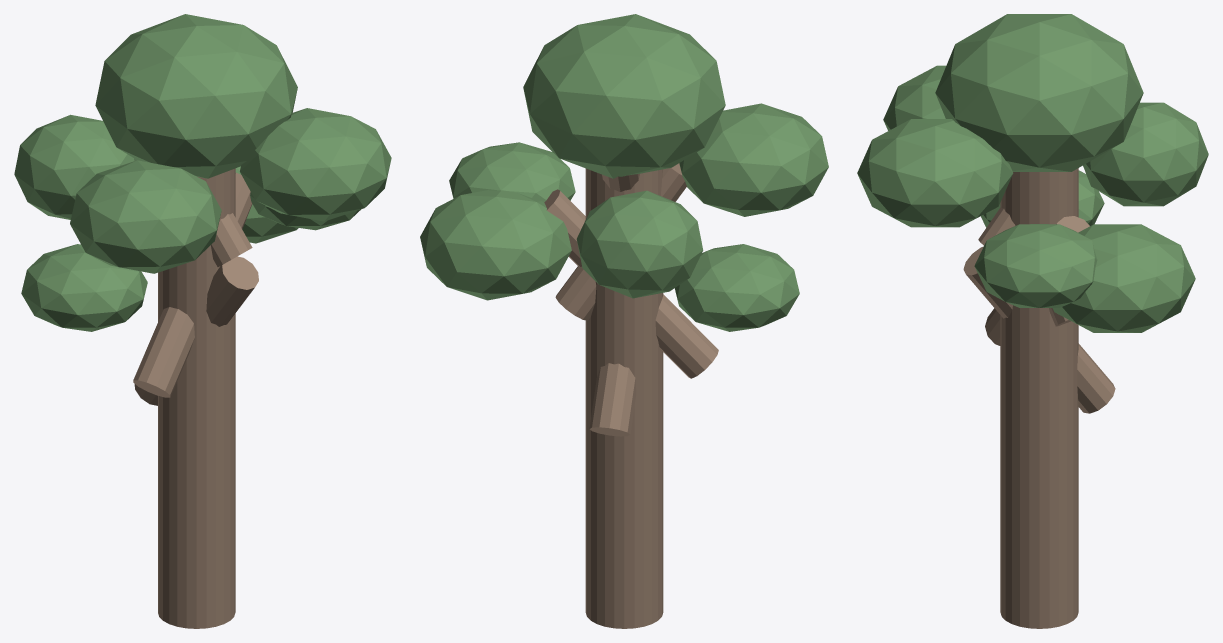
The model's file is oak_mature.glb.
The picture shows the model from 3 angles, left to right: view 1: azimuth 30°, elevation 25°; view 2: azimuth 150°, elevation 25°; view 3: azimuth 270°, elevation 25°; orthographic projection.
Visible parts, largest first — view 1: Oak_Mature_Trunk, Oak_Mature_LeafCluster_5, Oak_Mature_LeafCluster_4, Oak_Mature_LeafCluster_3, Oak_Mature_LeafCluster_7, Oak_Mature_LeafCluster_2, Oak_Mature_Branch_2, Oak_Mature_Branch_1, Oak_Mature_Branch_4, Oak_Mature_LeafCluster_6, Oak_Mature_LeafCluster_1; view 2: Oak_Mature_LeafCluster_5, Oak_Mature_Trunk, Oak_Mature_LeafCluster_1, Oak_Mature_LeafCluster_4, Oak_Mature_LeafCluster_2, Oak_Mature_LeafCluster_7, Oak_Mature_LeafCluster_6, Oak_Mature_Branch_2, Oak_Mature_Branch_1, Oak_Mature_Branch_3; view 3: Oak_Mature_Trunk, Oak_Mature_LeafCluster_5, Oak_Mature_LeafCluster_3, Oak_Mature_LeafCluster_1, Oak_Mature_LeafCluster_2, Oak_Mature_LeafCluster_6, Oak_Mature_Branch_1, Oak_Mature_LeafCluster_4, Oak_Mature_LeafCluster_7, Oak_Mature_Branch_2, Oak_Mature_Branch_4.
Boxes of the visible parts, x1,y1,x2,y2 form: Oak_Mature_Trunk: (158, 168, 235, 628); Oak_Mature_LeafCluster_5: (95, 14, 297, 178); Oak_Mature_LeafCluster_4: (70, 160, 221, 273); Oak_Mature_LeafCluster_3: (240, 108, 391, 221); Oak_Mature_LeafCluster_7: (21, 244, 147, 331); Oak_Mature_LeafCluster_2: (14, 114, 136, 219); Oak_Mature_Branch_2: (133, 172, 252, 397); Oak_Mature_Branch_1: (134, 256, 258, 405); Oak_Mature_Branch_4: (211, 213, 252, 267); Oak_Mature_LeafCluster_6: (250, 192, 360, 230); Oak_Mature_LeafCluster_1: (235, 166, 298, 243); Oak_Mature_LeafCluster_5: (523, 14, 725, 178); Oak_Mature_Trunk: (585, 168, 663, 628); Oak_Mature_LeafCluster_1: (420, 190, 571, 300); Oak_Mature_LeafCluster_4: (679, 103, 828, 216); Oak_Mature_LeafCluster_2: (576, 190, 703, 298); Oak_Mature_LeafCluster_7: (674, 244, 799, 331); Oak_Mature_LeafCluster_6: (449, 142, 575, 202); Oak_Mature_Branch_2: (544, 189, 718, 378); Oak_Mature_Branch_1: (589, 363, 636, 436); Oak_Mature_Branch_3: (555, 163, 686, 320); Oak_Mature_Trunk: (1000, 168, 1078, 628); Oak_Mature_LeafCluster_5: (935, 14, 1143, 171); Oak_Mature_LeafCluster_3: (857, 119, 1013, 227); Oak_Mature_LeafCluster_1: (1052, 224, 1195, 332); Oak_Mature_LeafCluster_2: (1083, 102, 1208, 206); Oak_Mature_LeafCluster_6: (974, 224, 1097, 307); Oak_Mature_Branch_1: (963, 246, 1115, 413); Oak_Mature_LeafCluster_4: (883, 65, 945, 130); Oak_Mature_LeafCluster_7: (980, 170, 1104, 227); Oak_Mature_Branch_2: (985, 216, 1089, 345); Oak_Mature_Branch_4: (978, 206, 1015, 245).
Size of the model in its own units: 1.48 by 2.5 by 1.35.
